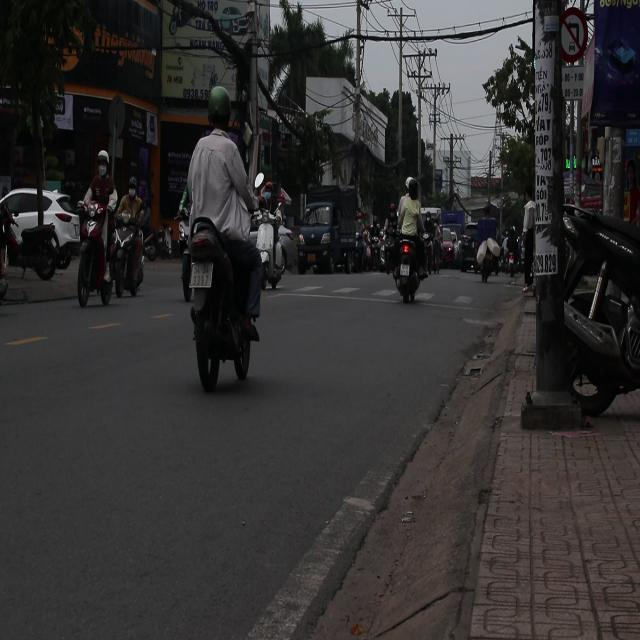car: (457, 237, 477, 272)
motorbike: (546, 190, 640, 420), (183, 214, 256, 390), (72, 188, 141, 308), (5, 189, 78, 279), (252, 196, 296, 289), (387, 231, 426, 302), (363, 224, 386, 273), (144, 226, 170, 262)
truck: (295, 186, 362, 274), (440, 210, 468, 266)
